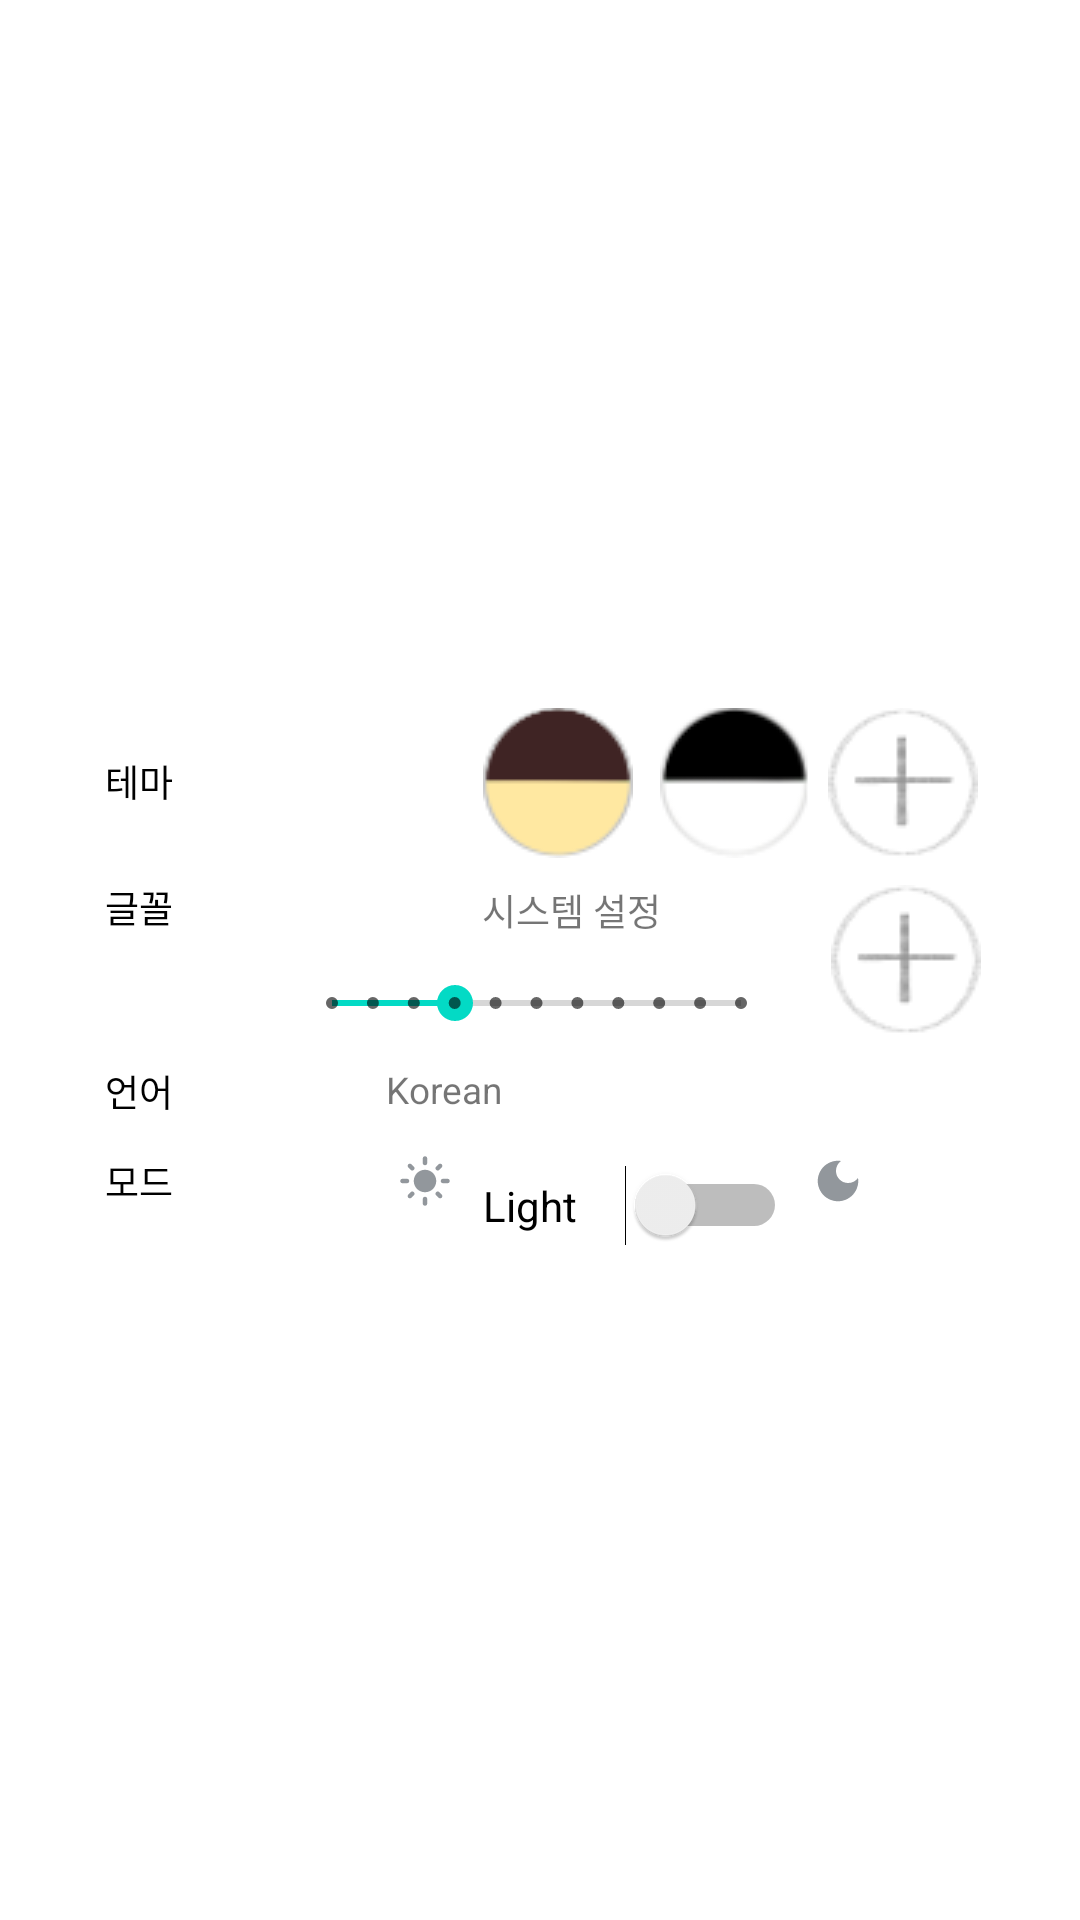

Where to tap for icons on this 1080x1920 app screen, as (x=x, y=y):
darkmode: (x=838, y=1181)
others: (x=903, y=783), (x=906, y=960)
thema: (x=558, y=782), (x=734, y=769)
